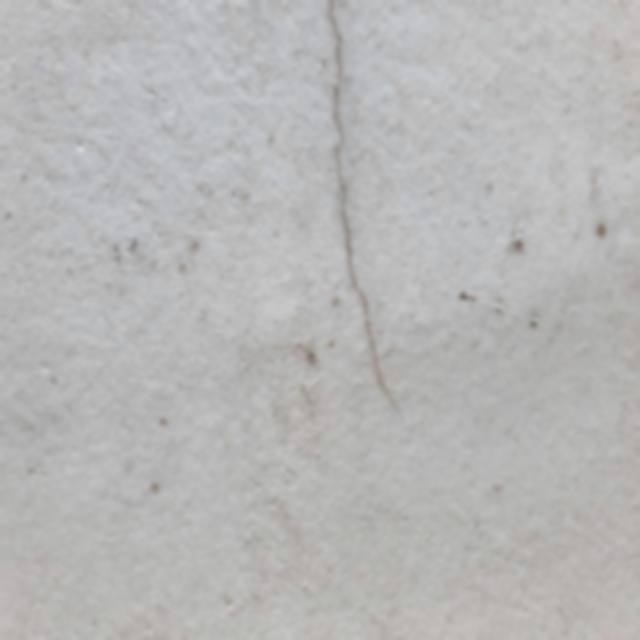SurfaceCrack: (284, 1, 446, 639)
